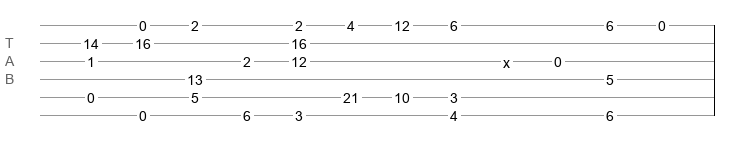0: (87, 90, 95, 100), (139, 18, 147, 28), (139, 108, 147, 118), (554, 54, 562, 64), (658, 18, 666, 28)
1: (87, 54, 95, 64)
10: (394, 90, 410, 100)
12: (291, 54, 307, 64), (394, 18, 410, 28)
13: (187, 72, 203, 82)
14: (83, 36, 99, 46)
16: (135, 36, 151, 46), (291, 36, 307, 46)
2: (191, 18, 199, 28), (243, 54, 251, 64), (295, 18, 303, 28)
21: (343, 90, 359, 100)
3: (295, 108, 303, 118), (450, 90, 458, 100)
4: (347, 18, 355, 28), (450, 108, 458, 118)
5: (191, 90, 199, 100), (606, 72, 614, 82)
6: (243, 108, 251, 118), (450, 18, 458, 28), (606, 108, 614, 118), (606, 18, 614, 28)
x: (503, 55, 510, 63)
